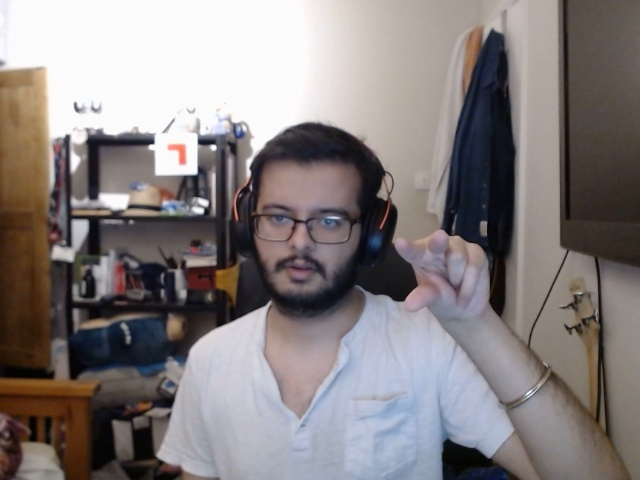No: (390, 221, 505, 324)
